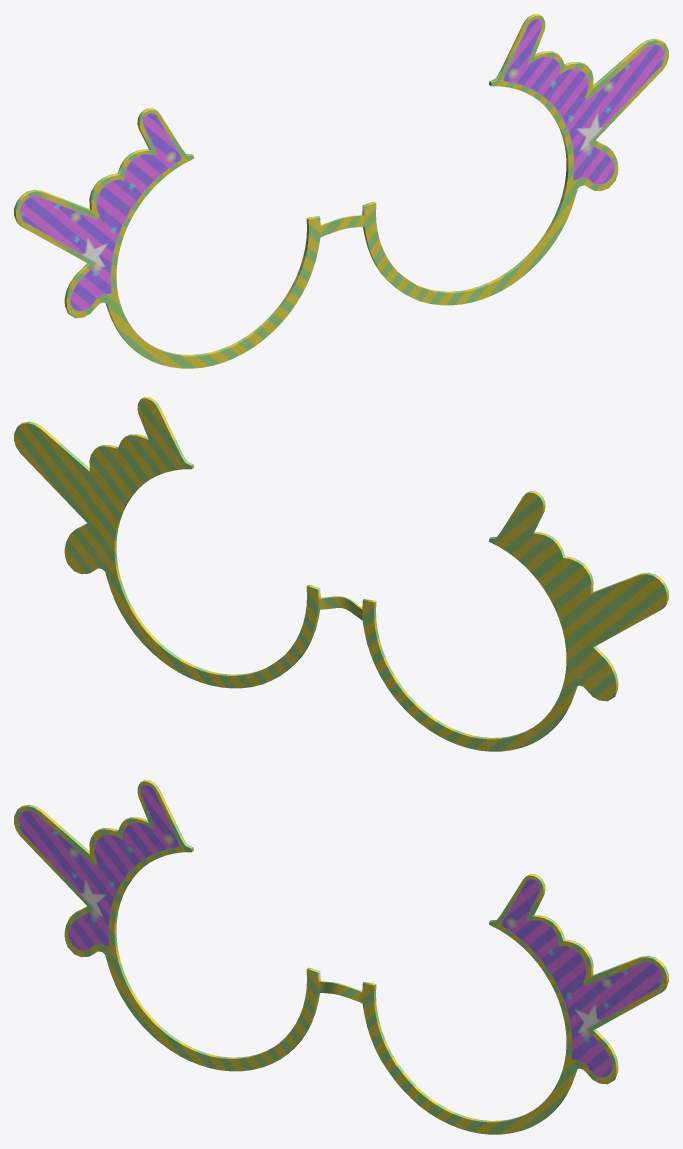
Rendered from Spectacles Rock.glb.
3 renders of one model, top to bottom at view 1: azimuth 30°, elevation 25°; view 2: azimuth 150°, elevation 25°; view 3: azimuth 330°, elevation 25°, orthographic.
Parts seen in each view (by area): view 1: SM_Spectacles_rock_LOD0; view 2: SM_Spectacles_rock_LOD0; view 3: SM_Spectacles_rock_LOD0.
Part boxes in pixels (x1,y1,x2,y2): SM_Spectacles_rock_LOD0: [14, 14, 668, 368]; SM_Spectacles_rock_LOD0: [14, 397, 668, 751]; SM_Spectacles_rock_LOD0: [14, 780, 668, 1134].
Bounding box in the file's own units: 0.209 × 0.0832 × 0.00225.
1 material, 1 textured.
